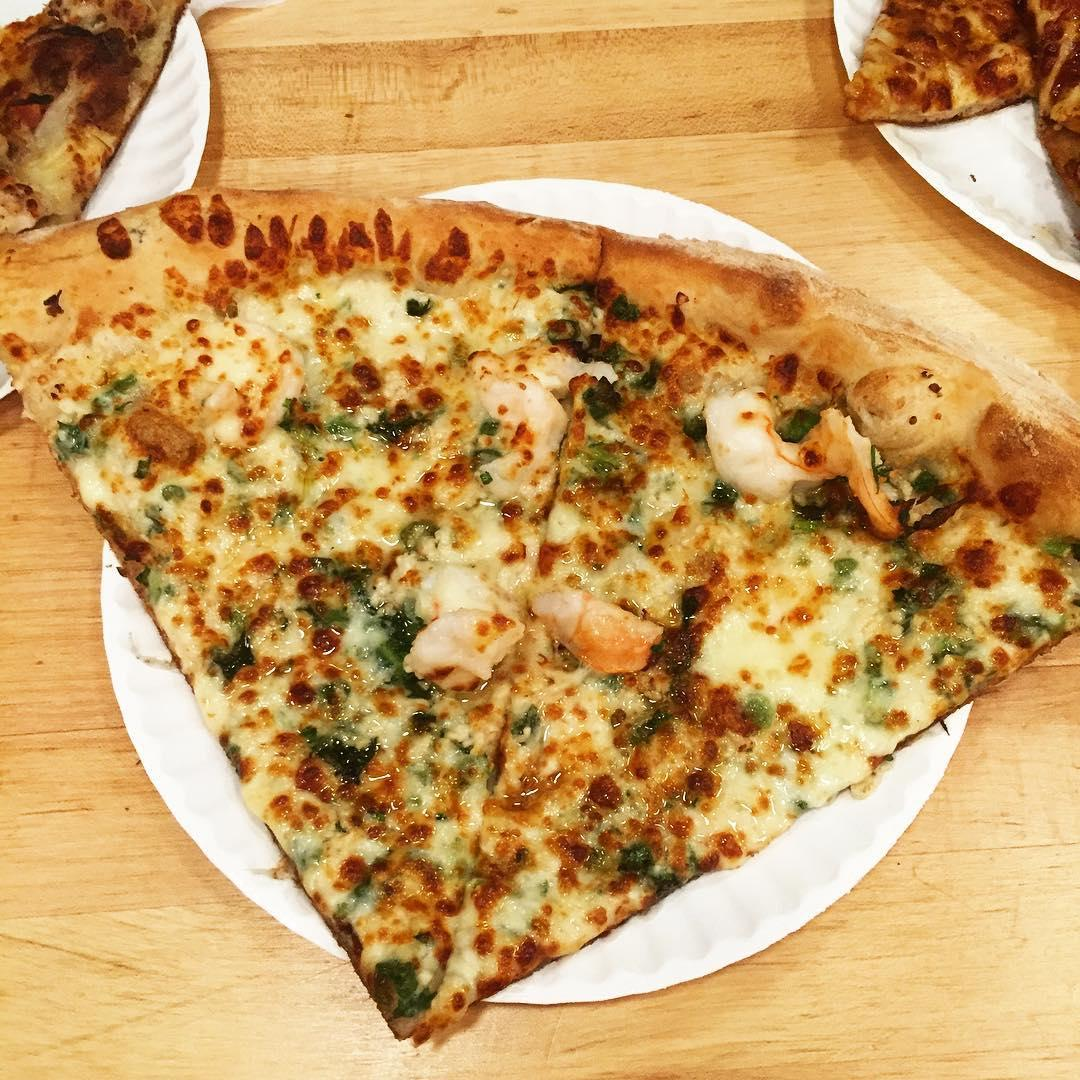Cheese: (211, 305, 453, 545), (713, 545, 904, 768)
Chicken: (802, 410, 905, 537), (711, 391, 801, 503), (541, 586, 651, 669), (485, 376, 558, 501), (412, 582, 504, 680)
Pizza: (1, 188, 1080, 1044), (0, 1, 184, 229), (823, 1, 1038, 117), (1031, 0, 1080, 246)
